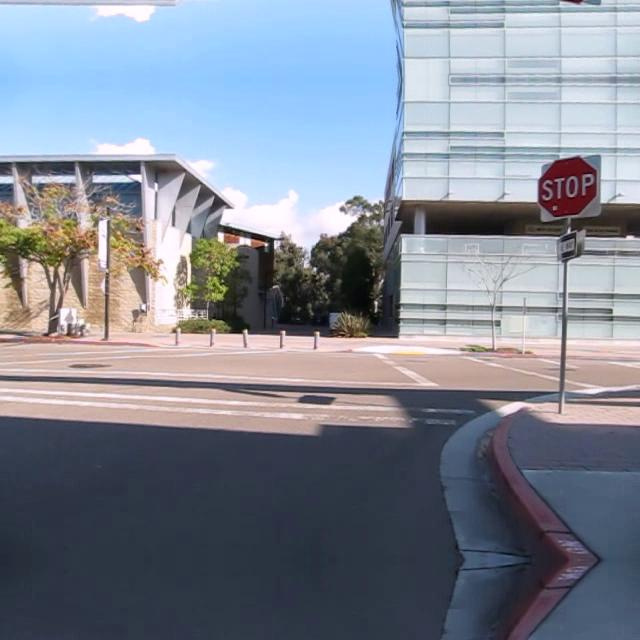stop: (537, 154, 599, 218)
